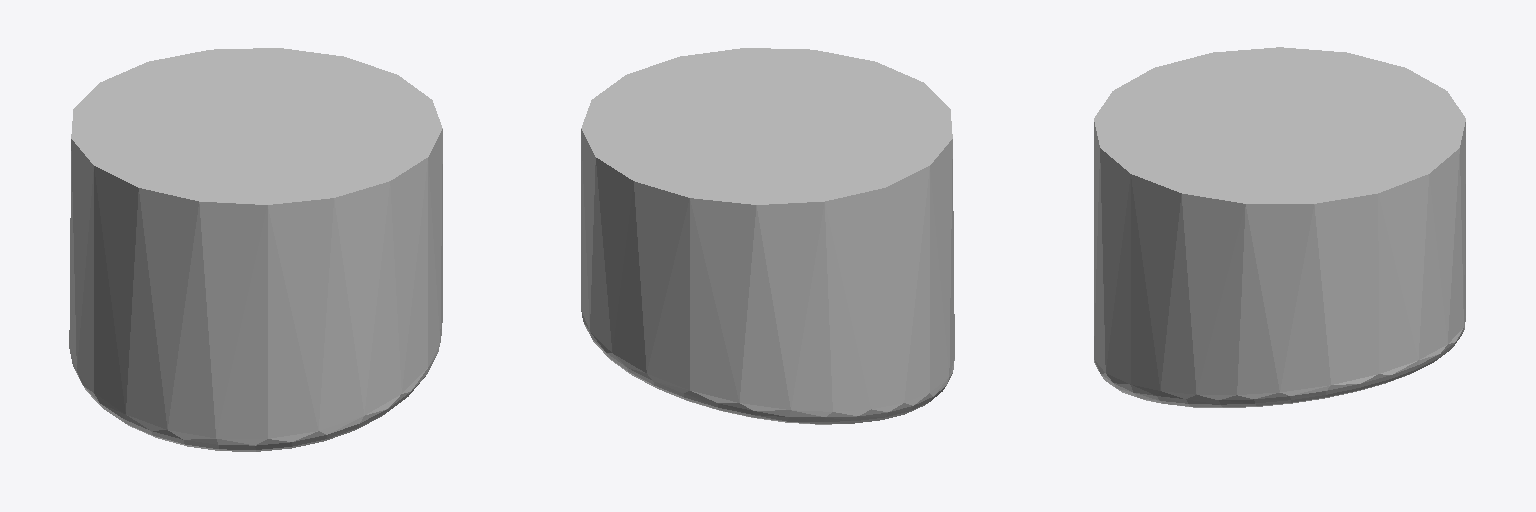
Rendered from ArrowDown.obj.
The picture shows the model from 3 angles: view 1: azimuth 30°, elevation 25°; view 2: azimuth 150°, elevation 25°; view 3: azimuth 270°, elevation 25°; orthographic projection.
Visible parts, largest first — view 1: ArrowDown; view 2: ArrowDown; view 3: ArrowDown.
Part boxes in pixels (x1,y1,x2,y2): ArrowDown: (69, 48, 442, 451); ArrowDown: (581, 48, 954, 424); ArrowDown: (1094, 47, 1465, 407).
Size of the model in its own units: 8.64 by 6.61 by 8.6.